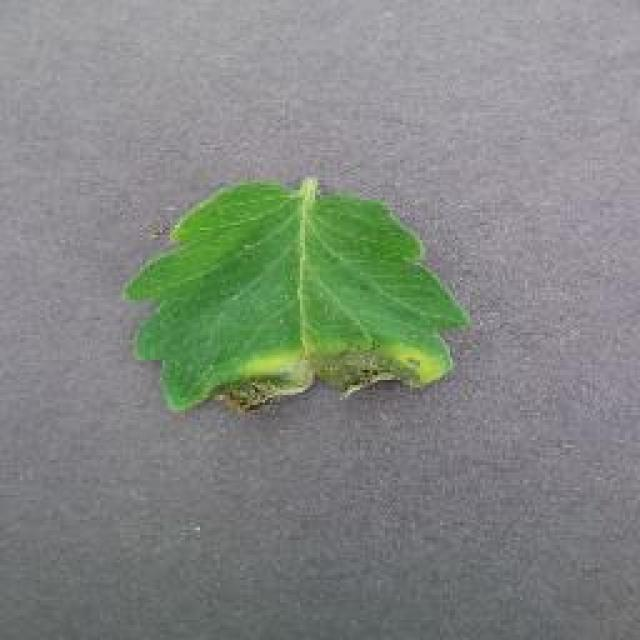Tomato late blight leaf: (118, 178, 472, 428)
